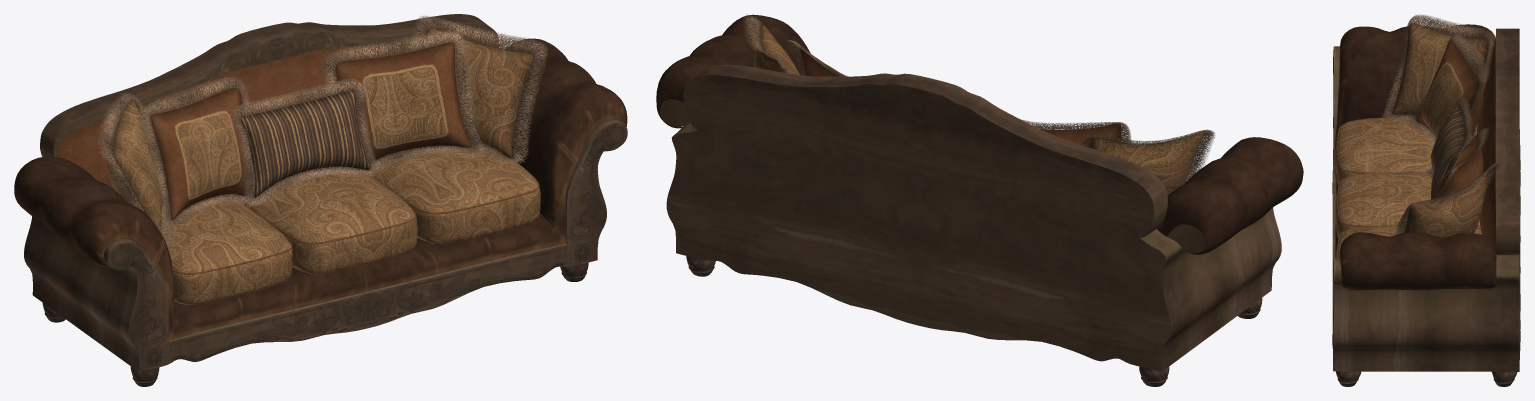
The model's file is SheenWoodLeatherSofa.glb.
3 renders of one model, left to right at view 1: azimuth 30°, elevation 25°; view 2: azimuth 150°, elevation 25°; view 3: azimuth 270°, elevation 25°, orthographic. The views are drawn at different scales.
Visible parts, largest first — view 1: Frame, Paisley, Fringe, Brown, Stripes, Frame_Fabric; view 2: Frame, Paisley, Fringe, Brown; view 3: Frame, Paisley, Fringe, Brown, Frame_Fabric, Stripes.
Boxes of the visible parts, x1=… form: Frame: x1=14, y1=14, x2=627, y2=386; Paisley: x1=107, y1=27, x2=540, y2=304; Fringe: x1=98, y1=16, x2=547, y2=246; Brown: x1=150, y1=42, x2=539, y2=274; Stripes: x1=174, y1=64, x2=448, y2=199; Frame_Fabric: x1=57, y1=34, x2=494, y2=189; Frame: x1=656, y1=14, x2=1303, y2=386; Paisley: x1=754, y1=23, x2=1204, y2=194; Fringe: x1=743, y1=14, x2=1215, y2=182; Brown: x1=800, y1=46, x2=1121, y2=147; Frame: x1=1332, y1=24, x2=1520, y2=386; Paisley: x1=1335, y1=23, x2=1487, y2=257; Fringe: x1=1382, y1=14, x2=1499, y2=235; Brown: x1=1336, y1=40, x2=1483, y2=257; Frame_Fabric: x1=1477, y1=39, x2=1495, y2=245; Stripes: x1=1422, y1=61, x2=1472, y2=198.
Size of the model in its own units: 2.73 by 1.12 by 0.9231.
Materials: 6 (6 with a texture image).
